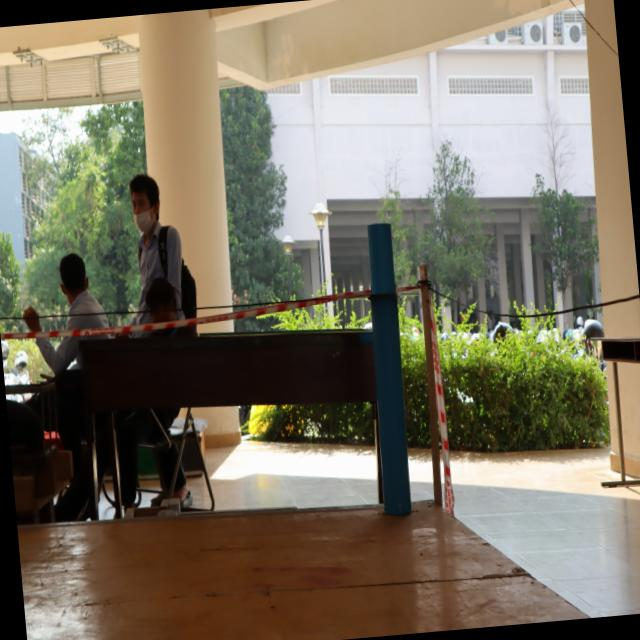pole: (349, 220, 419, 354)
